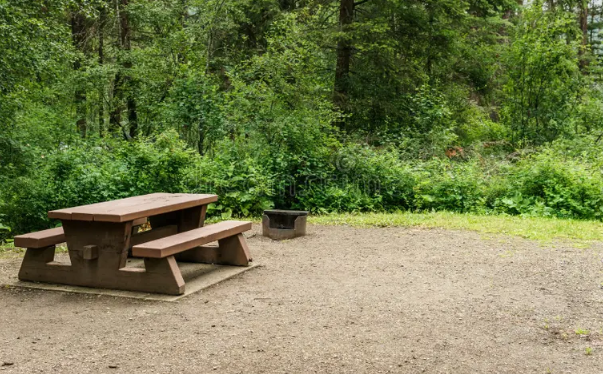obstacle: (14, 180, 250, 300)
